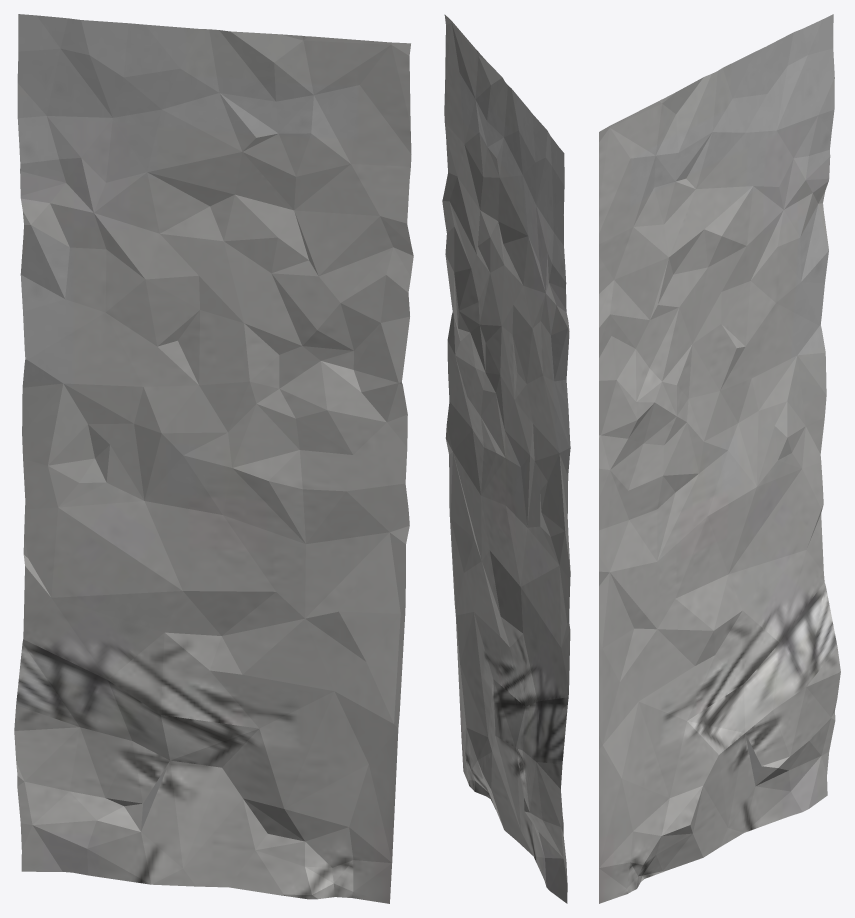
The picture shows the model from 3 angles, left to right: view 1: azimuth 30°, elevation 25°; view 2: azimuth 150°, elevation 25°; view 3: azimuth 270°, elevation 25°; orthographic projection. The views are drawn at different scales.
Size of the model in its own units: 0.2736 by 0.8374 by 0.2349.
1 material, 1 textured.
